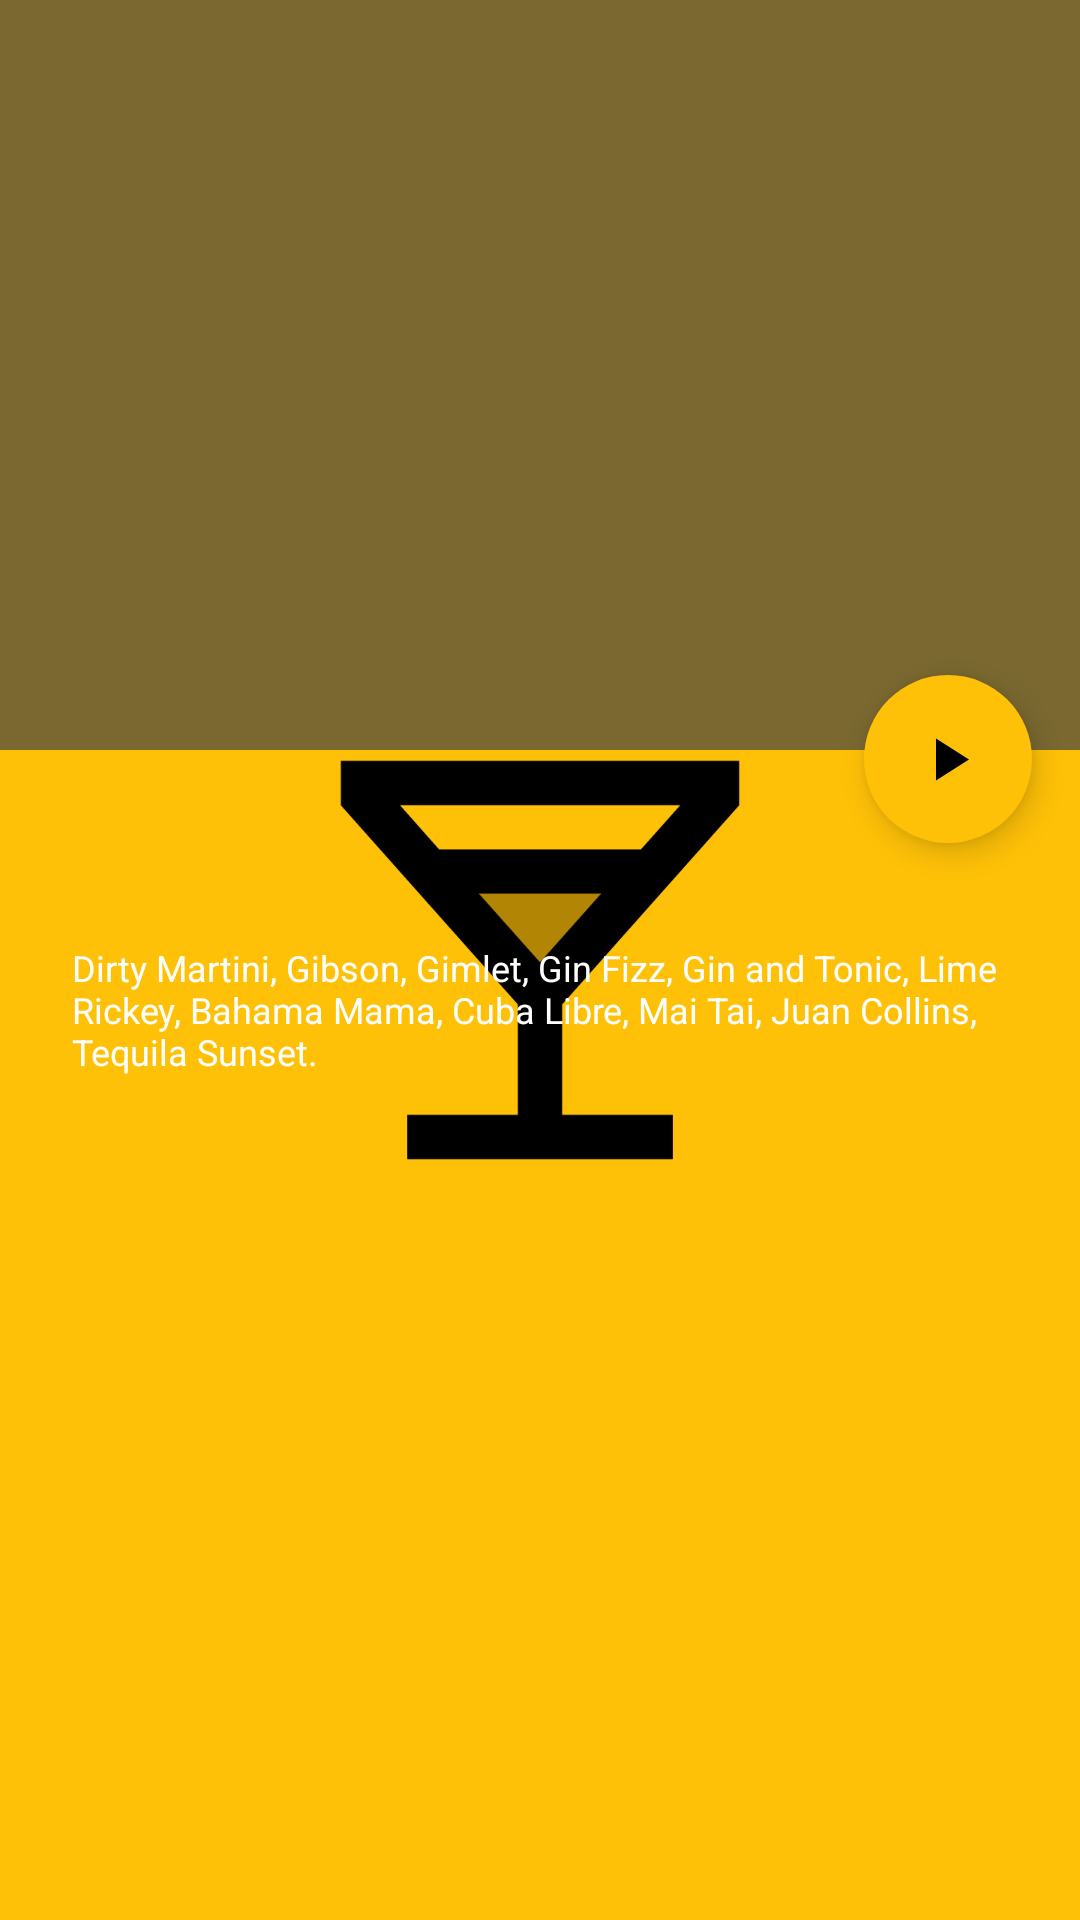

Where to tap for icons on this 1080×1920 app screen, as [x,y]:
play: [948,759]
